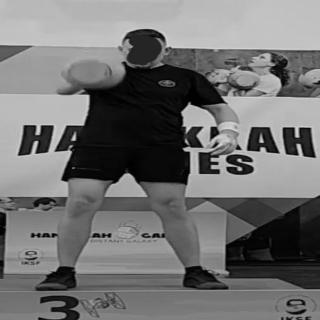kettlebell: (57, 56, 138, 93)
